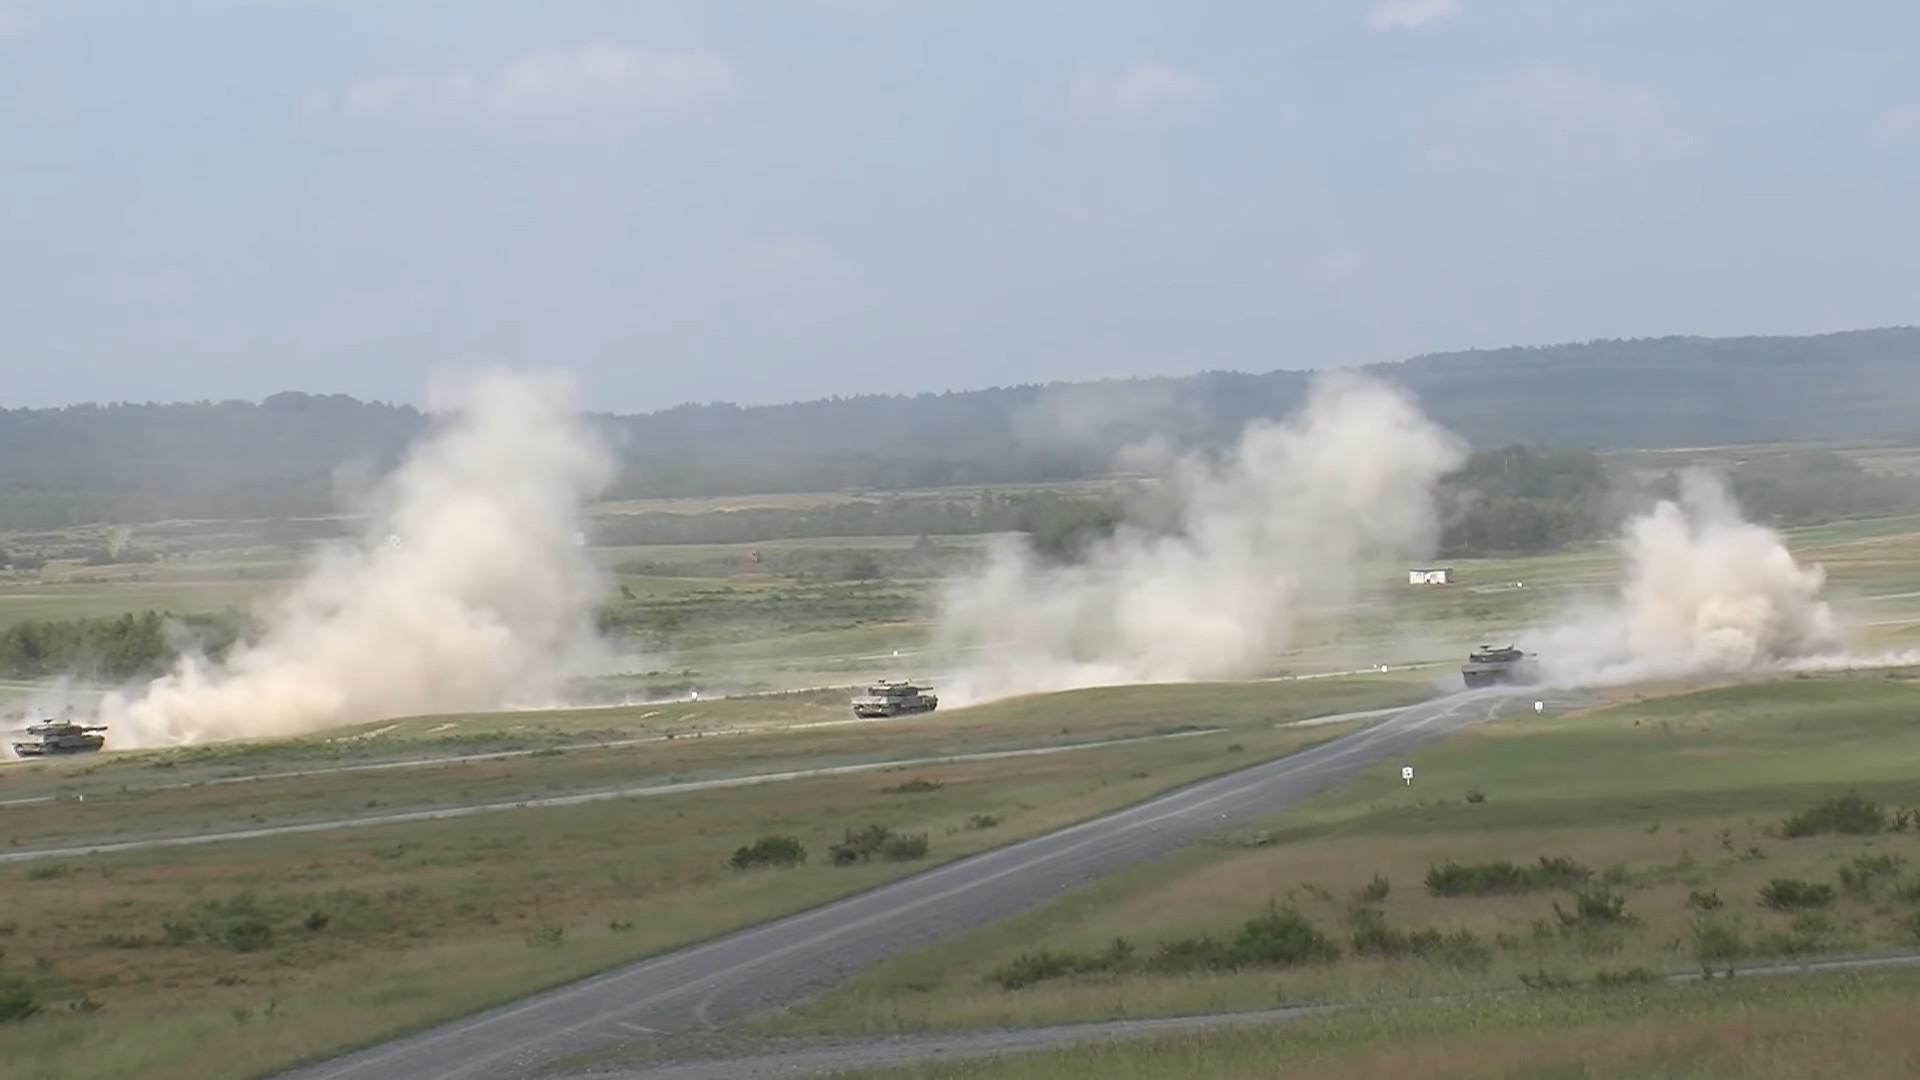tank: (13, 725, 108, 758), (1462, 650, 1538, 688), (852, 686, 936, 719)
